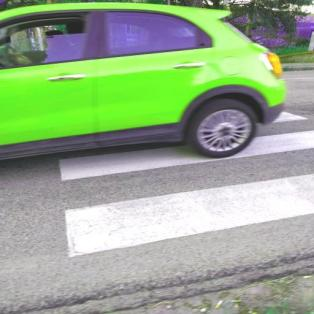Paso de Cebra: (43, 102, 314, 190)
